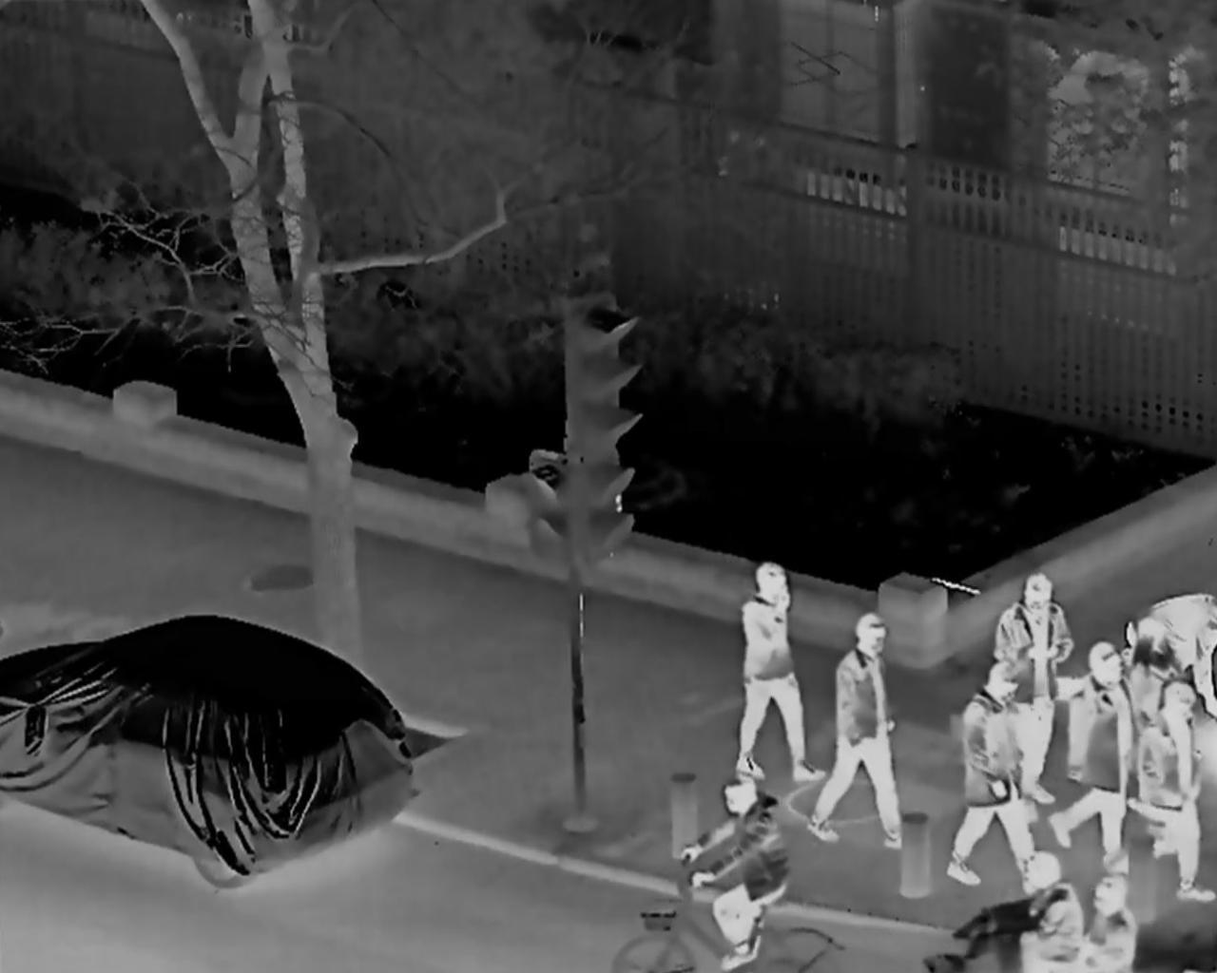person: (818, 609, 911, 845), (679, 780, 793, 965), (952, 658, 1044, 887), (736, 564, 828, 784), (1053, 643, 1138, 875), (995, 576, 1066, 805), (1142, 684, 1212, 904), (1127, 595, 1214, 763), (964, 858, 1087, 973), (1075, 871, 1140, 973)
